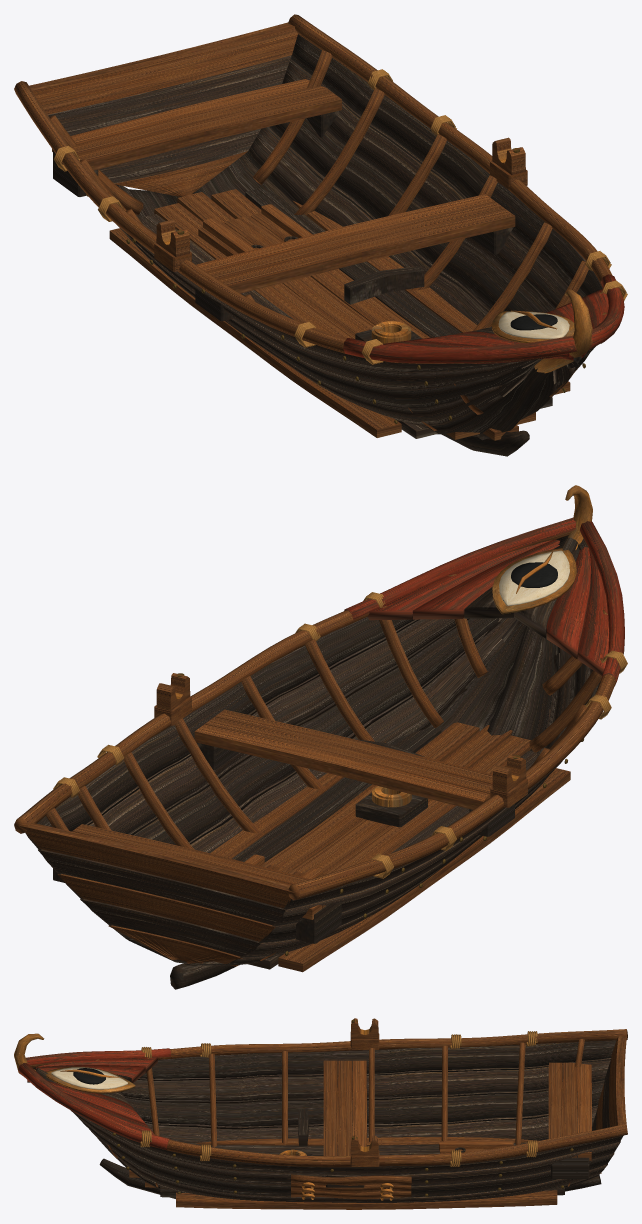
Rendered from boat.glb.
The picture shows the model from 3 angles, top to bottom: view 1: azimuth 30°, elevation 25°; view 2: azimuth 150°, elevation 25°; view 3: azimuth 270°, elevation 25°; orthographic projection. The views are drawn at different scales.
Parts seen in each view (by area): view 1: SM_Blind_Eye_Hull; view 2: SM_Blind_Eye_Hull; view 3: SM_Blind_Eye_Hull.
Boxes of the visible parts, box(x1,y1,x2,y2) form: SM_Blind_Eye_Hull: box(14, 14, 627, 456); SM_Blind_Eye_Hull: box(14, 485, 627, 989); SM_Blind_Eye_Hull: box(14, 1018, 627, 1209).
Bounding box in the file's own units: 1.91 × 1.25 × 4.02.
1 material, 1 textured.
